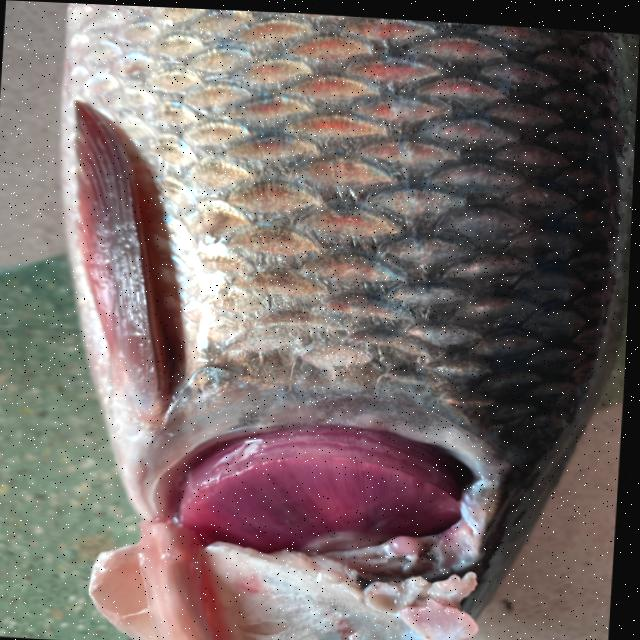Fresh: (113, 376, 540, 594)
